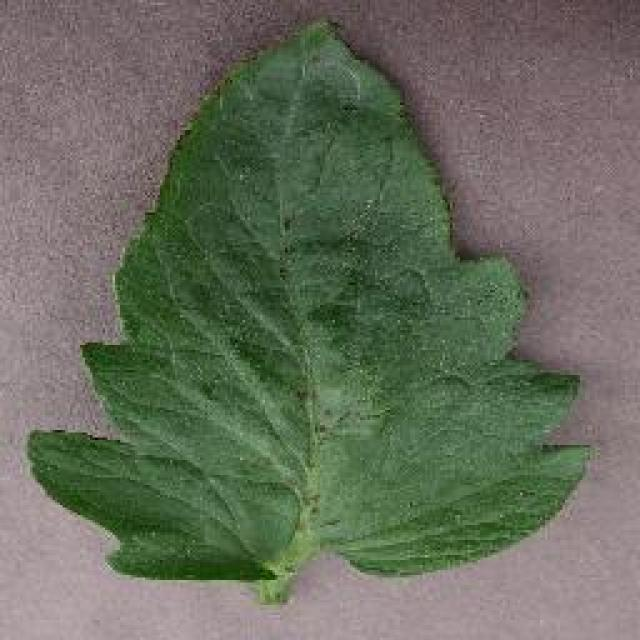Tomato___Bacterial_spot: (24, 15, 598, 607)
